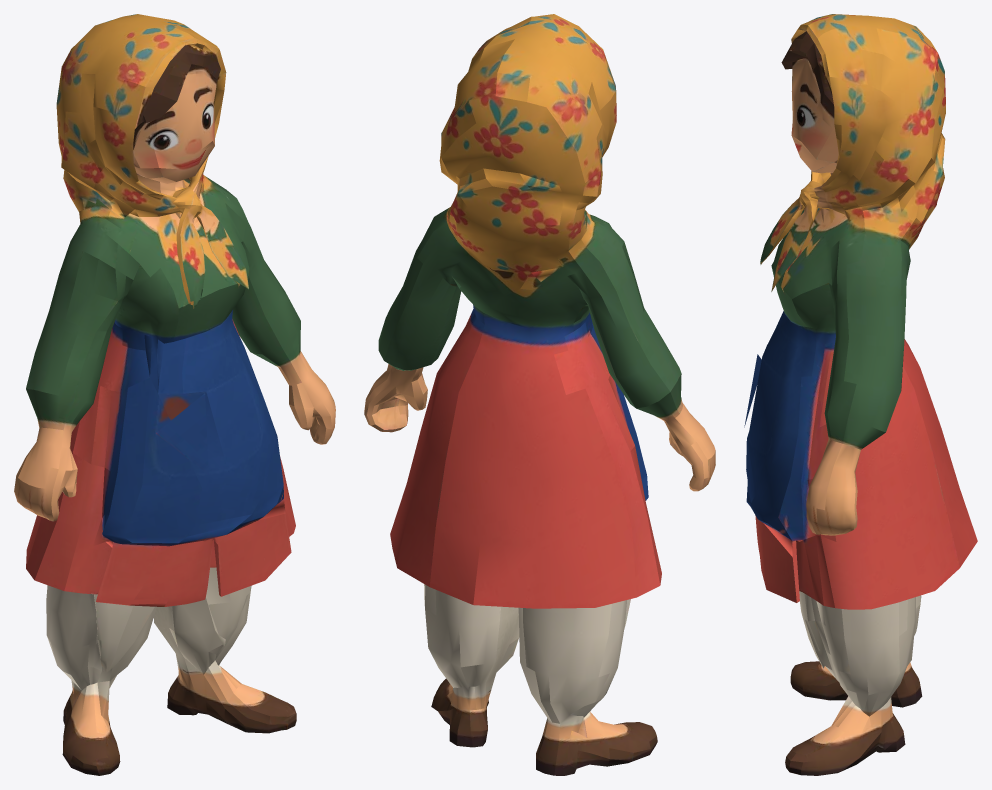
The model's file is koylu-kadin.glb.
3 renders of one model, left to right at view 1: azimuth 30°, elevation 25°; view 2: azimuth 150°, elevation 25°; view 3: azimuth 270°, elevation 25°, orthographic.
Parts seen in each view (by area): view 1: Mesh0; view 2: Mesh0; view 3: Mesh0.
Part boxes in pixels (left/top/right/bottom): Mesh0: left=14, top=14, right=335, bottom=775; Mesh0: left=364, top=14, right=715, bottom=775; Mesh0: left=744, top=14, right=977, bottom=775.
Size of the model in its own units: 0.9083 by 1.9 by 0.5692.
Materials: 1 (1 with a texture image).
